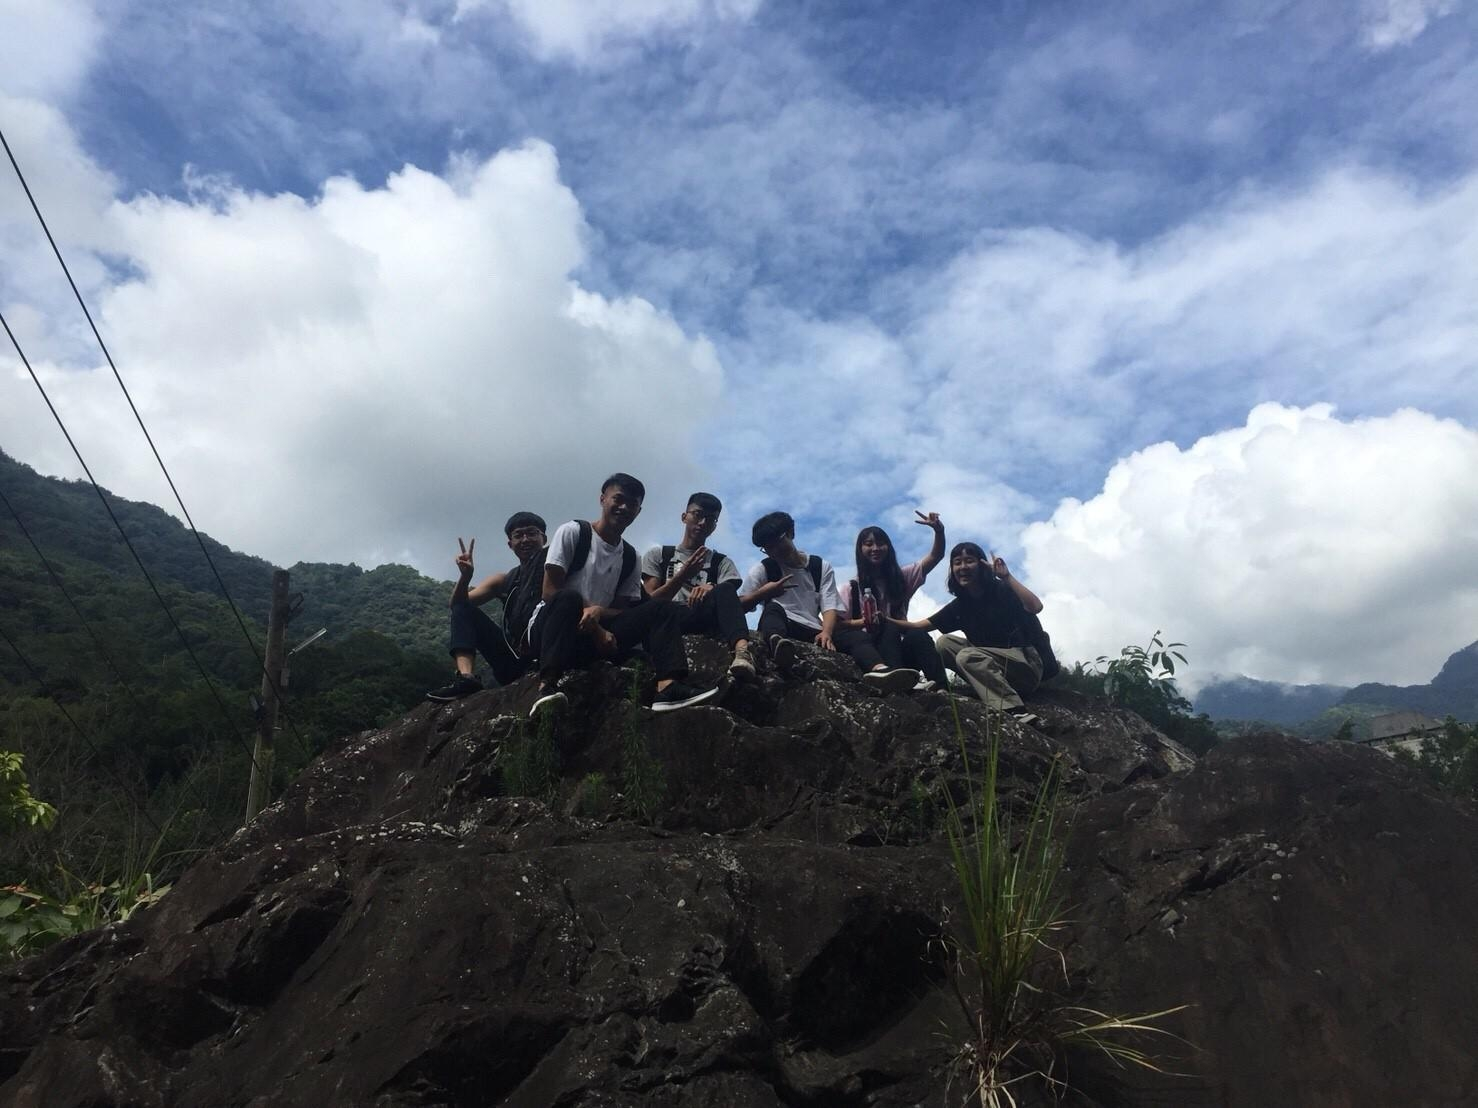people: (933, 538, 1042, 713), (840, 519, 940, 675), (744, 513, 836, 675), (565, 475, 646, 657), (475, 513, 558, 675), (669, 492, 740, 671)
